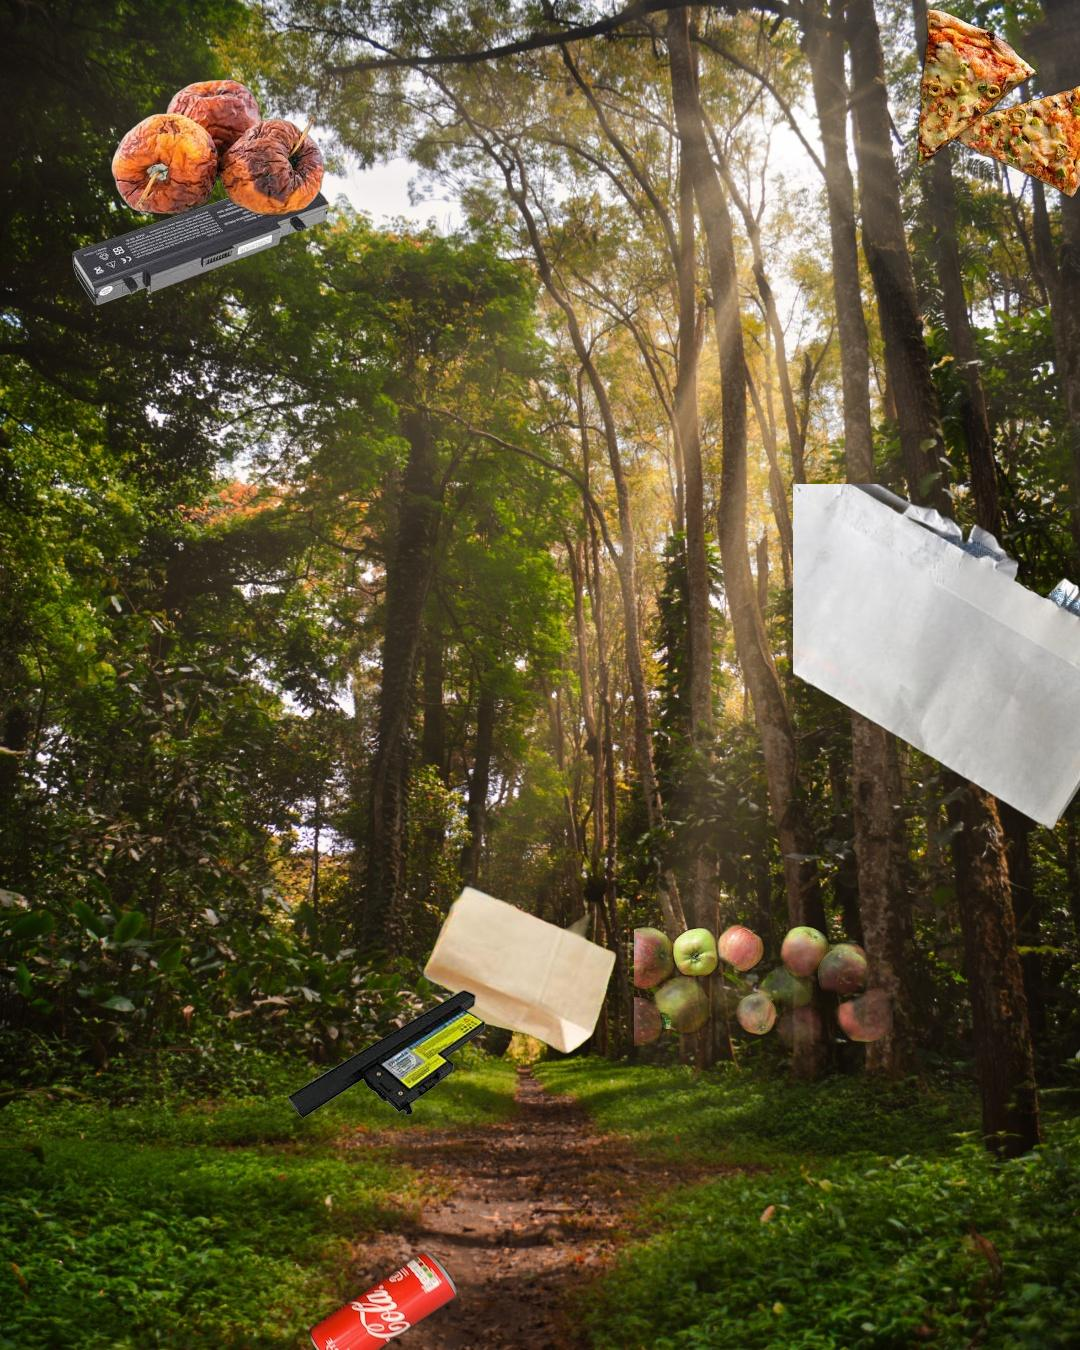battery: (71, 170, 330, 307), (287, 987, 486, 1121)
biological: (634, 919, 893, 1113), (83, 60, 327, 218), (914, 7, 1080, 201)
metal-cans: (305, 1245, 462, 1350)
paper: (793, 484, 1080, 833)
paper-bag: (396, 802, 677, 1057)
